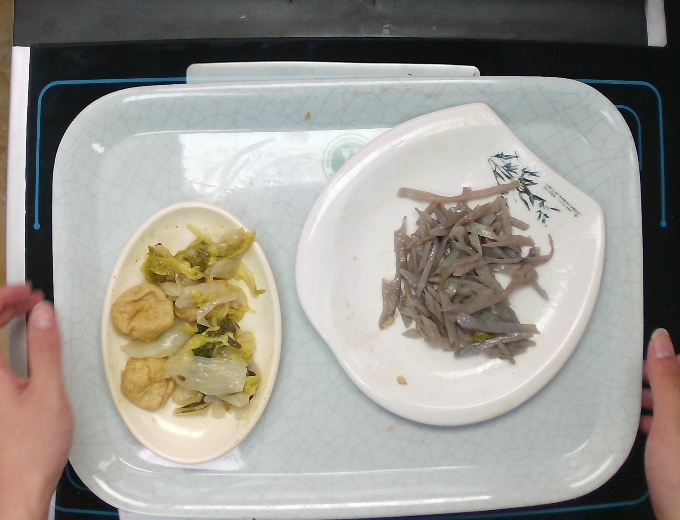JYsf-Mian_Pan: (289, 96, 610, 431)
JYsf-Tuo_Yuan_Wan: (95, 198, 286, 468)
